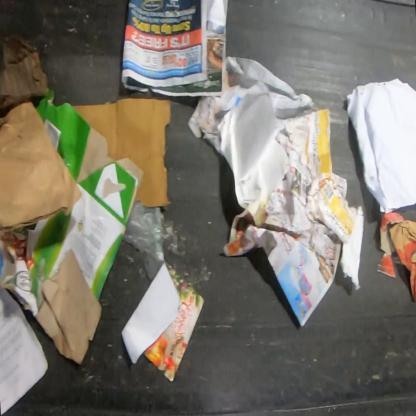cardboard: (25, 86, 144, 313), (72, 98, 172, 207), (35, 249, 103, 366), (376, 211, 406, 279)
soft_plastic: (122, 200, 166, 283)
